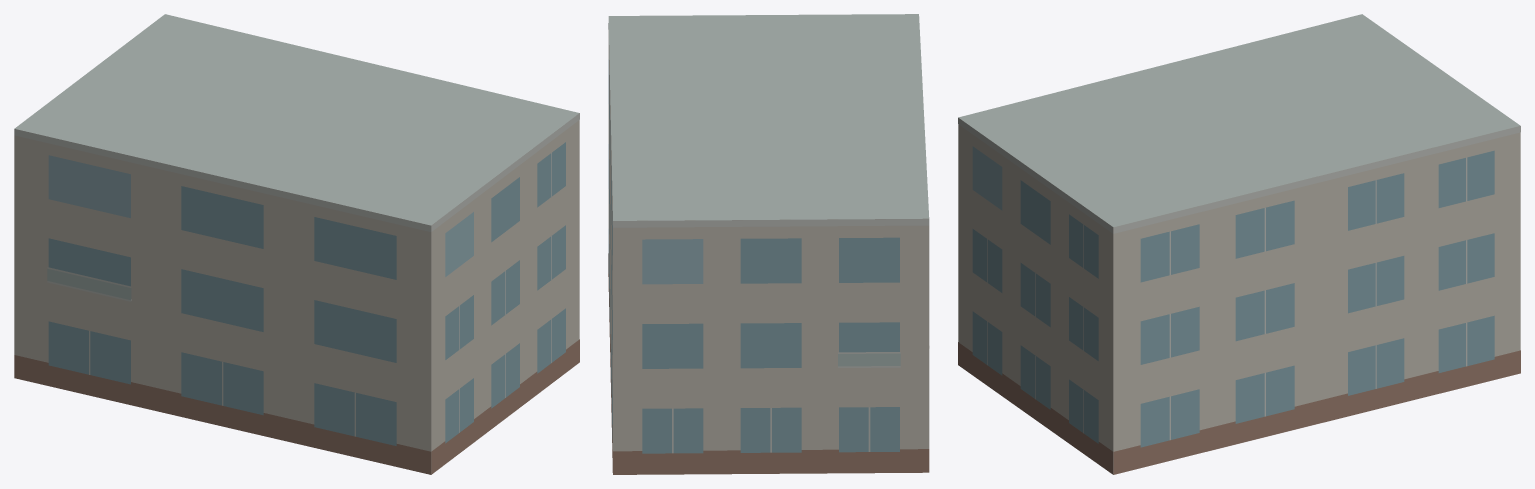
Rendered from survey-upis-32880437.glb.
The picture shows the model from 3 angles, left to right: view 1: azimuth 30°, elevation 25°; view 2: azimuth 150°, elevation 25°; view 3: azimuth 270°, elevation 25°; orthographic projection. The views are drawn at different scales.
Visible parts, largest first — view 1: survey-upis-32880437.tmp; view 2: survey-upis-32880437.tmp; view 3: survey-upis-32880437.tmp.
Part boxes in pixels (x1=…): survey-upis-32880437.tmp: x1=14, y1=14, x2=579, y2=474; survey-upis-32880437.tmp: x1=608, y1=14, x2=929, y2=474; survey-upis-32880437.tmp: x1=958, y1=14, x2=1520, y2=474.
Size of the model in its own units: 16.92 by 9.15 by 18.86.
